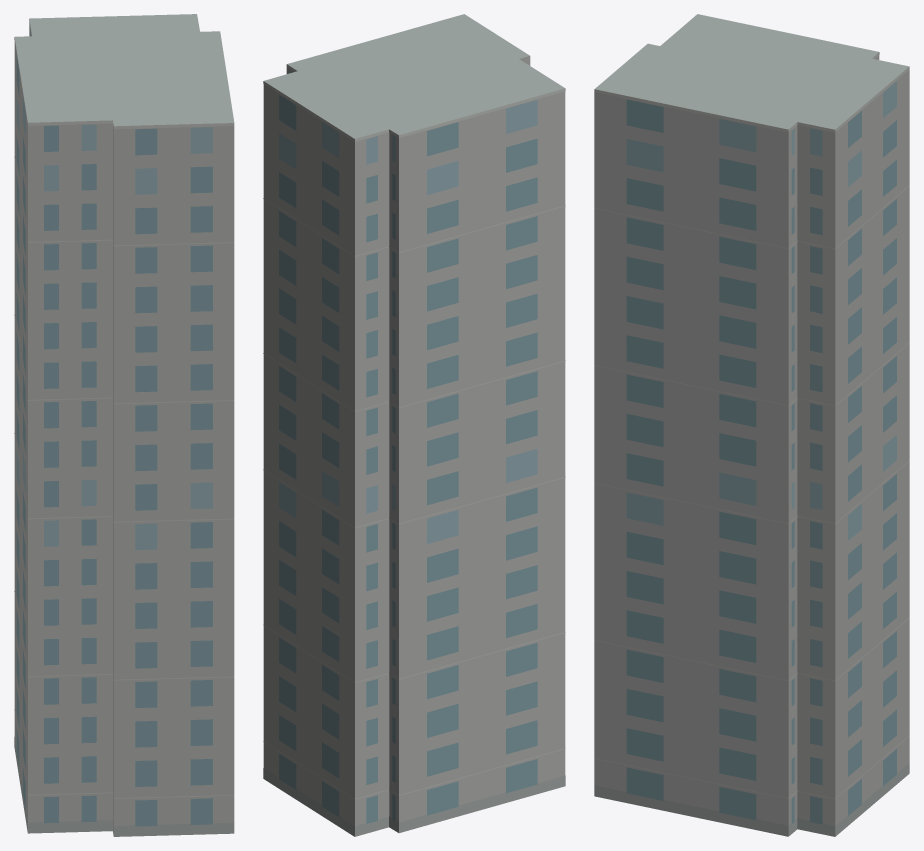
Rendered from survey-upis-33010318.glb.
3 views of the same model, side by side, from view 1: azimuth 30°, elevation 25°; view 2: azimuth 150°, elevation 25°; view 3: azimuth 270°, elevation 25° (orthographic).
Visible parts, largest first — view 1: survey-upis-33010318.tmp; view 2: survey-upis-33010318.tmp; view 3: survey-upis-33010318.tmp.
Part boxes in pixels (x1,y1,x2,y2): survey-upis-33010318.tmp: [14, 14, 234, 836]; survey-upis-33010318.tmp: [263, 14, 565, 836]; survey-upis-33010318.tmp: [594, 14, 909, 836].
Bounding box in the file's own units: 19.73 × 56.15 × 22.7.
